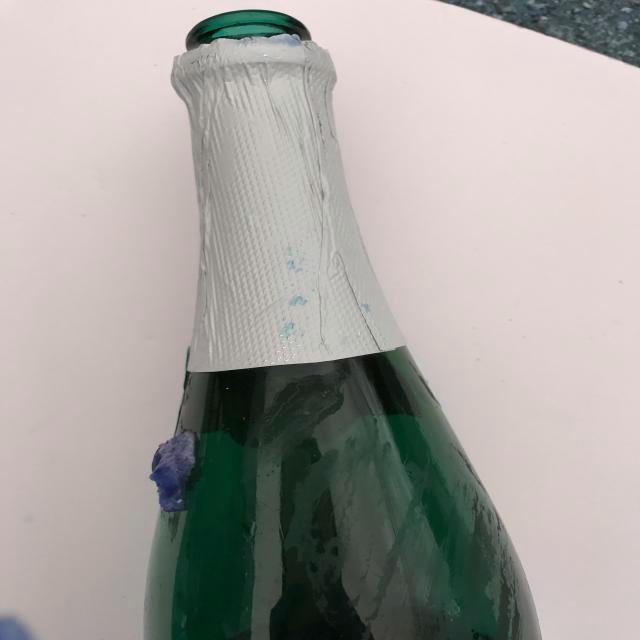glass: (130, 3, 558, 640)
